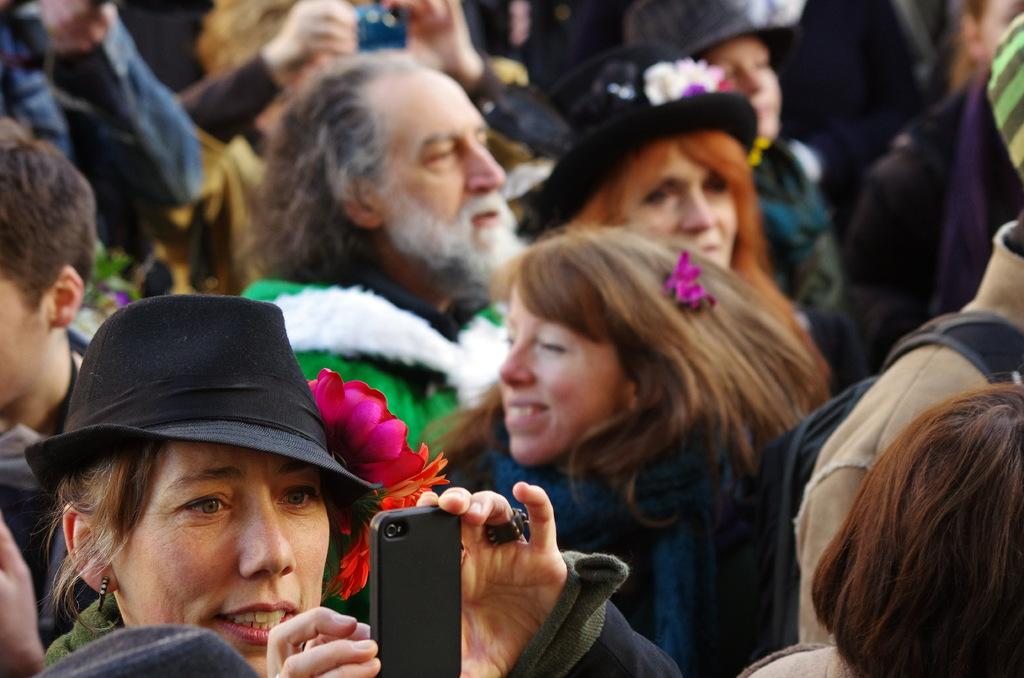Hat: (23, 294, 376, 493), (512, 39, 762, 230)
